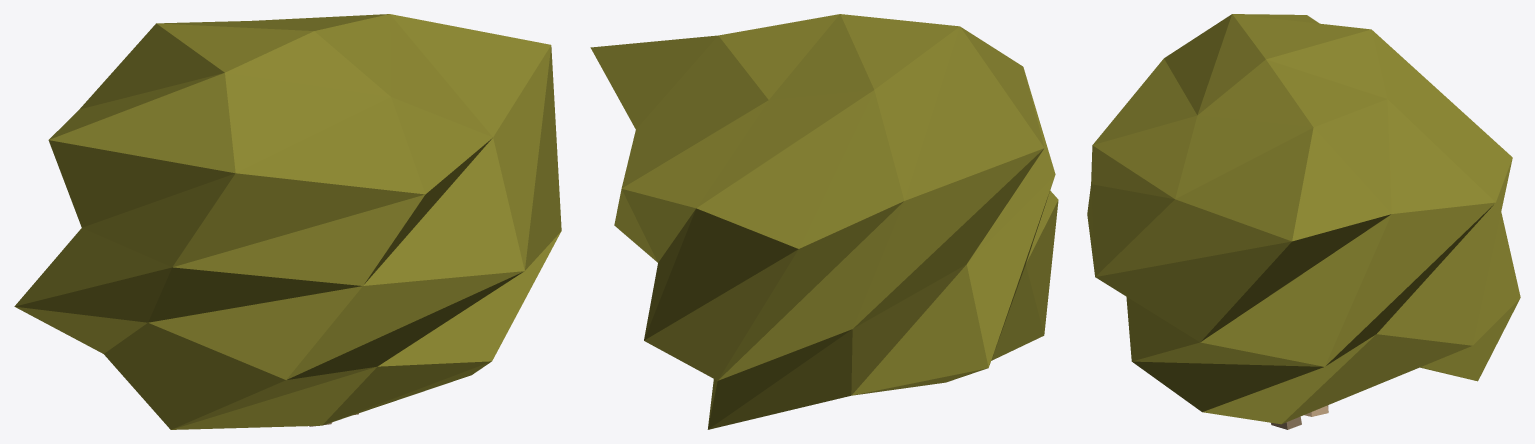
The model's file is bush_green.fbx.
The picture shows the model from 3 angles, left to right: view 1: azimuth 30°, elevation 25°; view 2: azimuth 150°, elevation 25°; view 3: azimuth 270°, elevation 25°; orthographic projection. The views are drawn at different scales.
Visible parts, largest first — view 1: leafs; view 2: leafs; view 3: leafs.
Part boxes in pixels (left/top/right/bottom): leafs: left=14, top=14, right=561, bottom=429; leafs: left=590, top=14, right=1058, bottom=429; leafs: left=1087, top=14, right=1520, bottom=424.
Bounding box in the file's own units: 189 × 145 × 165.
